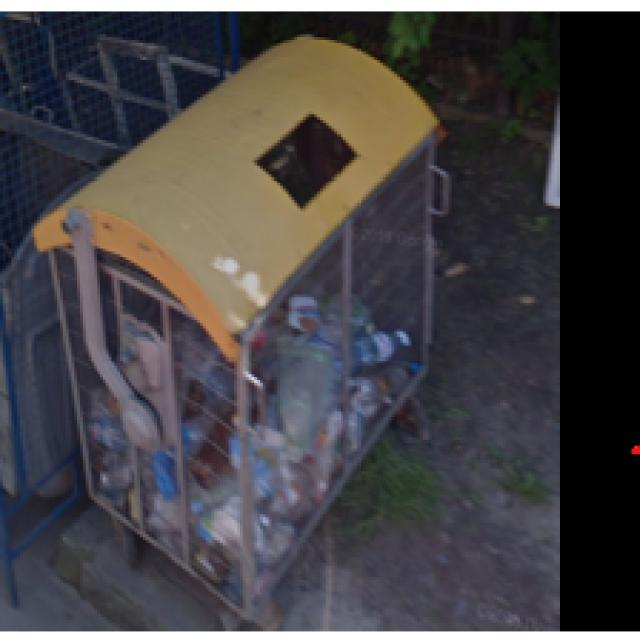plastic trash bin: (41, 51, 453, 628)
